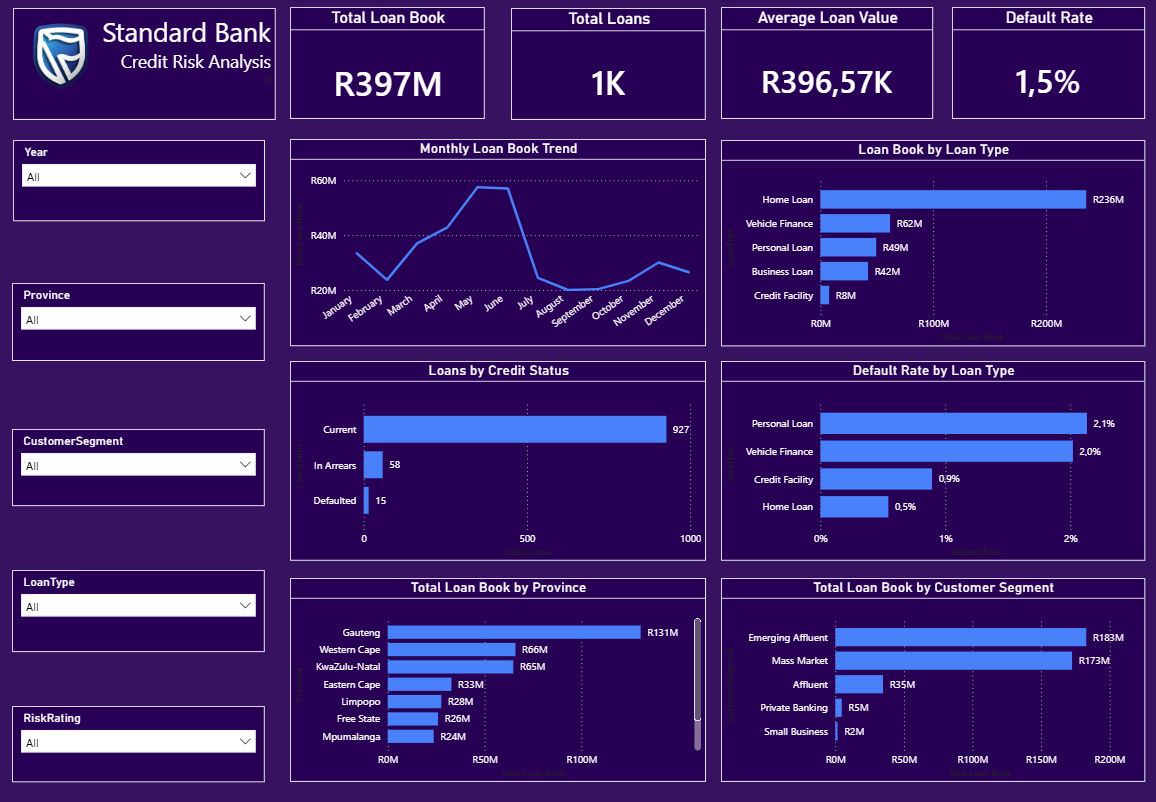

The page's visual inventory and layout, read from the dashboard file:
{"tool":"powerbi","page":{"name":"LendingCreditRiskAnalysis","canvas":[1400,980],"ordinal":2},"visuals":[{"type":"textbox","box":[18.1,12.1,317.4,135.2],"z":0},{"type":"image","box":[0,3.6,152.1,134],"z":1000},{"type":"cardVisual","title":"Total Loan Book","fields":{"Data":["Measures (2).Total Loan Book"]},"box":[352.4,10.9,235.3,135.2],"z":2000},{"type":"cardVisual","title":"Total Loans","fields":{"Data":["Measures (2).Total Loans"]},"box":[619.1,12.1,235.3,135.2],"z":3000},{"type":"cardVisual","title":"Average Loan Value","fields":{"Data":["Measures (2).Average Loan Value"]},"box":[872.6,10.9,255.9,135.2],"z":4000},{"type":"cardVisual","title":"Default Rate","fields":{"Data":["Measures (2).Default Rate"]},"box":[1151.4,10.9,232.9,135.2],"z":5000},{"type":"lineChart","title":"Monthly Loan Book Trend","fields":{"Category":["DimDate.Month"],"Y":["Measures (2).Total Loan Book"]},"box":[352.4,170.2,501.9,250.4],"z":6000},{"type":"clusteredBarChart","title":"Loan Book by Loan Type","fields":{"Y":["Measures (2).Total Loan Book"],"Category":["Loans.LoanType"]},"box":[872.6,171.4,511.7,248.6],"z":7000},{"type":"clusteredBarChart","title":"Default Rate by Loan Type","fields":{"Category":["Loans.LoanType"],"Y":["Measures (2).Default Rate"]},"box":[872.6,438.1,512.1,241.3],"z":8000},{"type":"clusteredBarChart","title":"Total Loan Book by Customer Segment","fields":{"Y":["Measures (2).Total Loan Book"],"Category":["Customers.CustomerSegment"]},"box":[872.6,700,511.7,246.2],"z":9000},{"type":"clusteredBarChart","fields":{"Category":["Customers.Province"],"Y":["Measures (2).Total Loan Book"]},"box":[352.4,700,502.1,246.2],"z":10000},{"type":"clusteredBarChart","title":"Loans by Credit Status","fields":{"Y":["Measures (2).Total Loans"],"Category":["Loans.LoanStatus"]},"box":[352.4,438.1,502.1,241.4],"z":11000},{"type":"slicer","fields":{"Values":["DimDate.Year"]},"box":[18.1,171.4,304.1,97.8],"z":12000},{"type":"slicer","fields":{"Values":["Branches.Province"]},"box":[16.9,344,305.3,94.1],"z":13000},{"type":"slicer","fields":{"Values":["Customers.CustomerSegment"]},"box":[16.9,520.2,305.3,92.9],"z":14000},{"type":"slicer","fields":{"Values":["Loans.LoanType"]},"box":[16.9,690.3,305.3,99],"z":15000},{"type":"slicer","fields":{"Values":["Loans.RiskRating"]},"box":[16.9,854.5,305.3,91.7],"z":16000}]}

Visuals, with their boxes in screenshot pixels (x1, y1, x2, y2), scaled from the page's 1400x980 canvas onto the 1156x802 screenshot:
textbox: l=15, t=10, r=277, b=121
image: l=0, t=3, r=126, b=113
"Total Loan Book" cardVisual: l=291, t=9, r=485, b=120
"Total Loans" cardVisual: l=511, t=10, r=705, b=121
"Average Loan Value" cardVisual: l=721, t=9, r=932, b=120
"Default Rate" cardVisual: l=951, t=9, r=1143, b=120
"Monthly Loan Book Trend" lineChart: l=291, t=139, r=705, b=344
"Loan Book by Loan Type" clusteredBarChart: l=721, t=140, r=1143, b=344
"Default Rate by Loan Type" clusteredBarChart: l=721, t=359, r=1143, b=556
"Total Loan Book by Customer Segment" clusteredBarChart: l=721, t=573, r=1143, b=774
clusteredBarChart - Customers.Province x Measures (2).Total Loan Book: l=291, t=573, r=706, b=774
"Loans by Credit Status" clusteredBarChart: l=291, t=359, r=706, b=556
slicer - DimDate.Year: l=15, t=140, r=266, b=220
slicer - Branches.Province: l=14, t=282, r=266, b=359
slicer - Customers.CustomerSegment: l=14, t=426, r=266, b=502
slicer - Loans.LoanType: l=14, t=565, r=266, b=646
slicer - Loans.RiskRating: l=14, t=699, r=266, b=774
